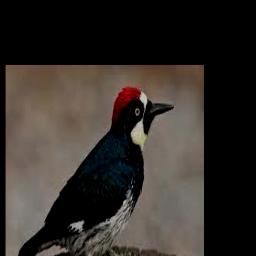Woodpecker: (8, 86, 175, 256)
